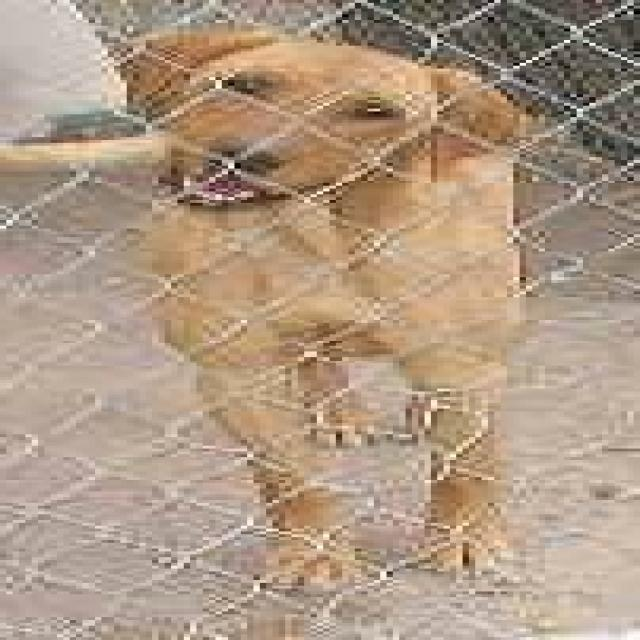dog: (0, 20, 539, 591)
